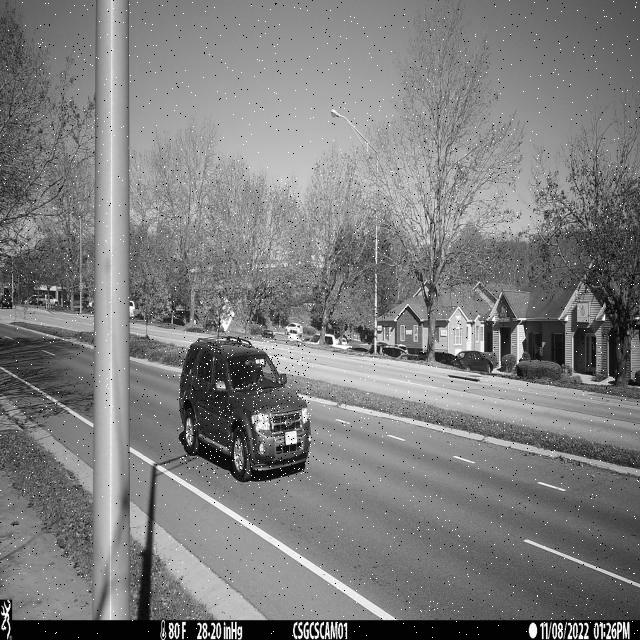SUV: (179, 337, 311, 482)
